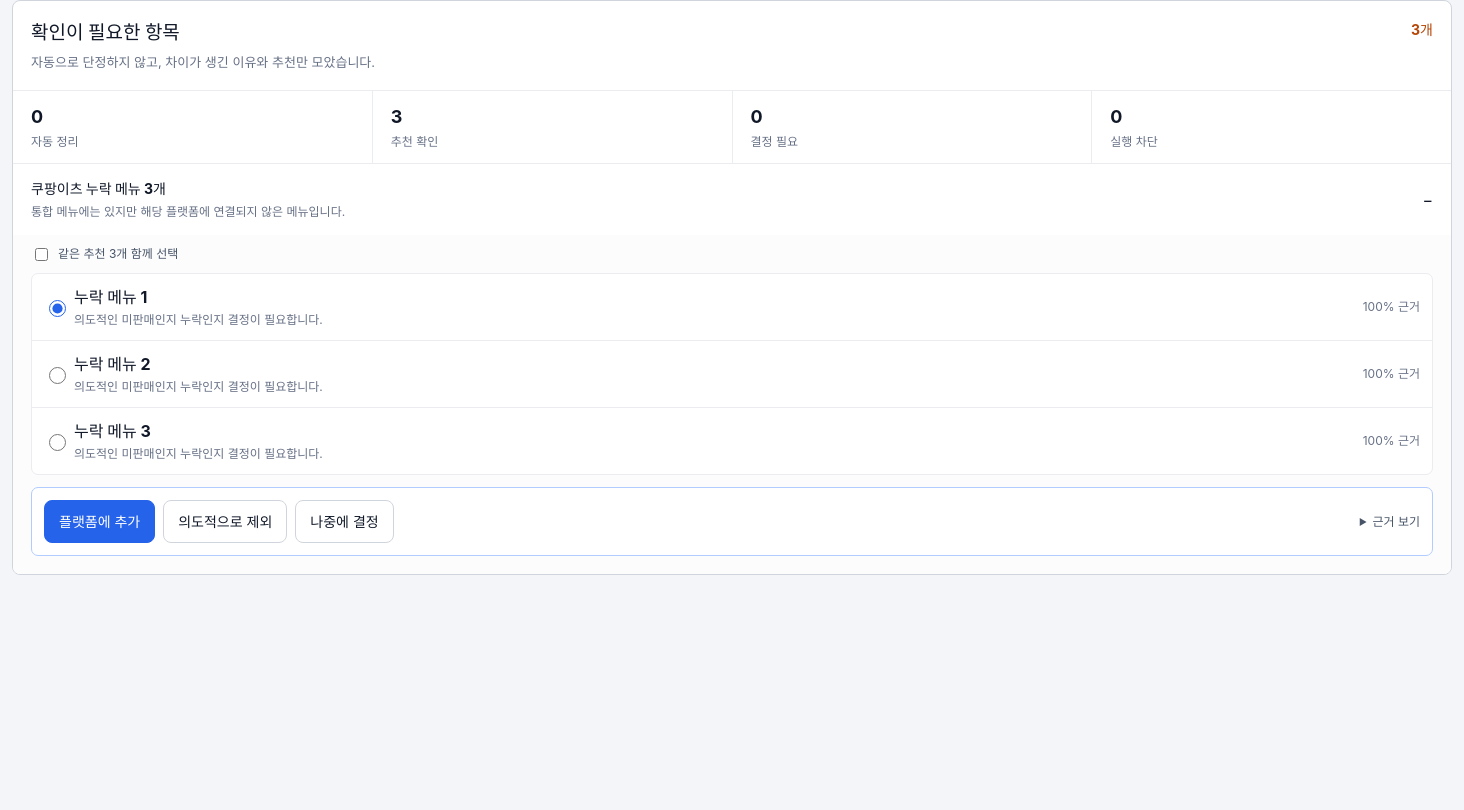
Scenario: ReviewInboxPanel › offers one-time and remembered resolution scopes
The width and height of the screenshot is (1464, 810).
Click the button "의도적으로 제외" at (225, 522), box x1=163 y1=500 x2=287 y2=543
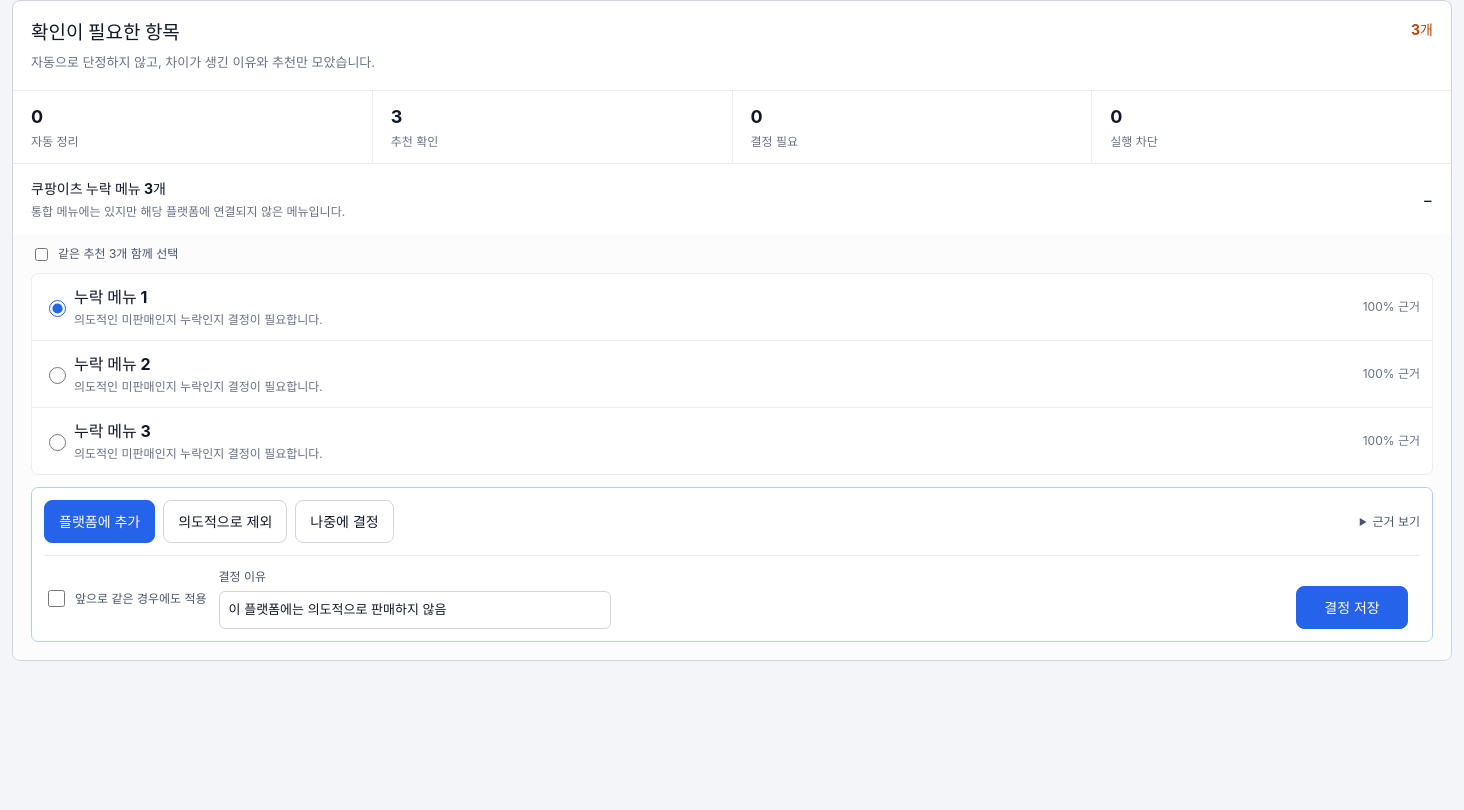
Now the checkbox labelled "앞으로 같은 경우에도 적용" is shown, box x1=48 y1=590 x2=65 y2=607
Now the field labelled "결정 이유" is shown, box x1=219 y1=591 x2=611 y2=629
